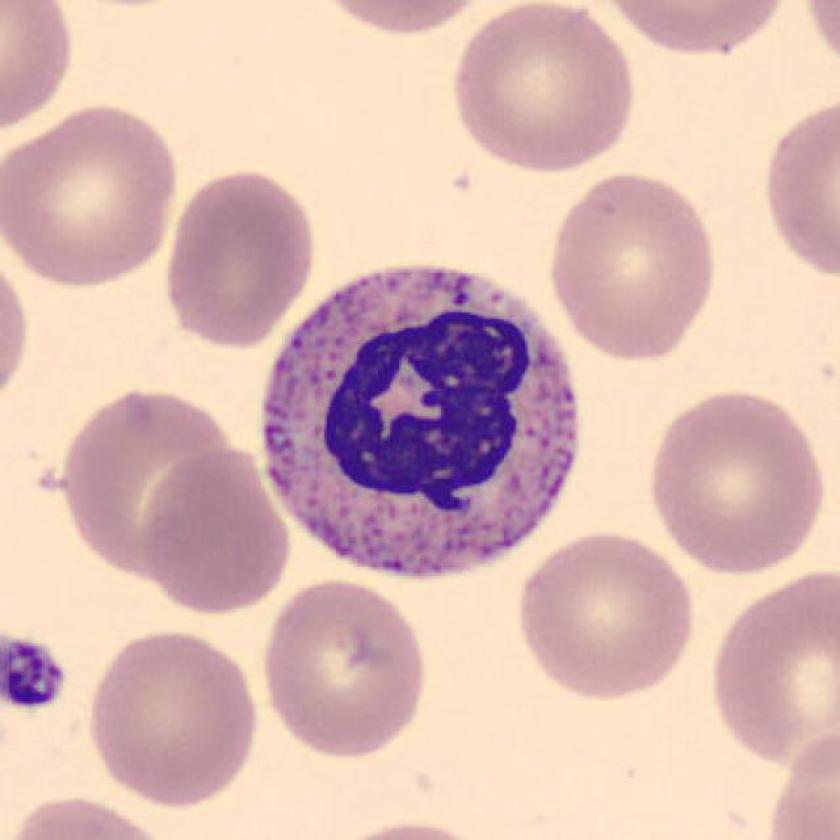neutrophil: (262, 268, 579, 574)
